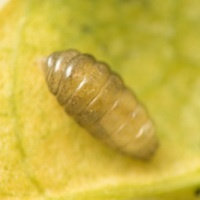insect: (45, 50, 157, 158)
